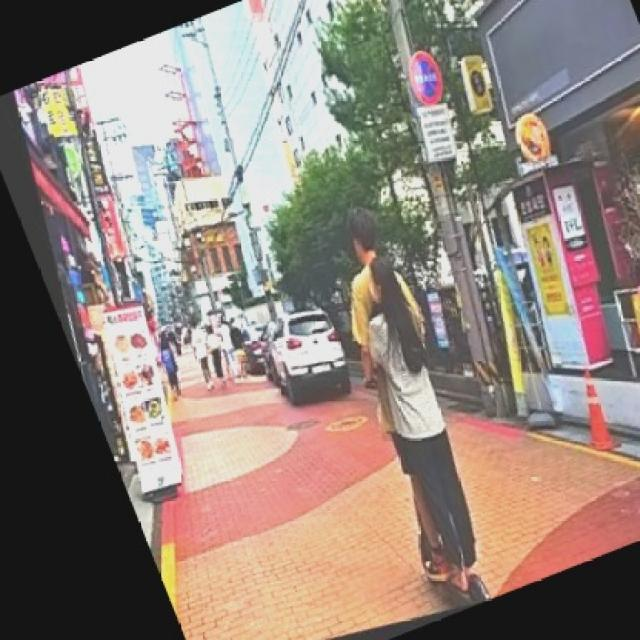bare_head: (336, 202, 381, 262), (357, 250, 403, 305)
human: (337, 199, 453, 575), (365, 253, 482, 579)
kickboard: (395, 529, 498, 607)
